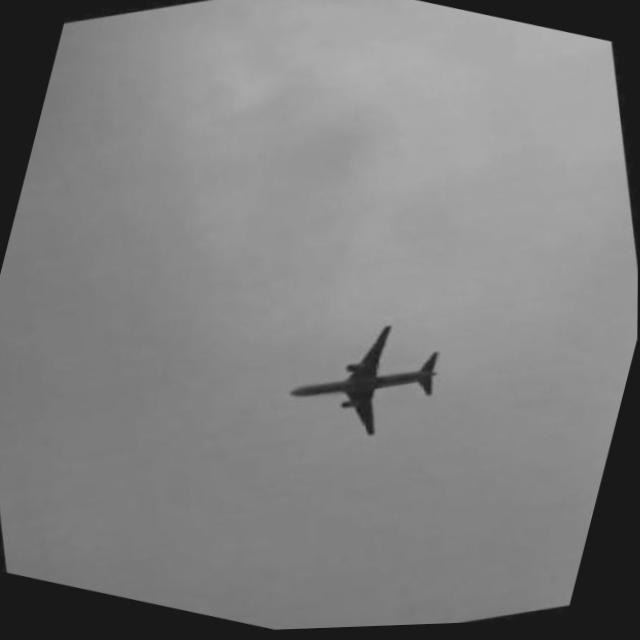aeroplane: (258, 281, 472, 484)
